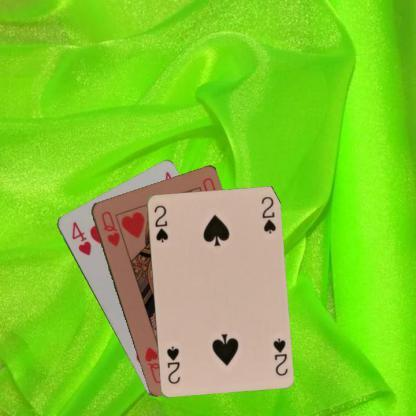2s: (270, 335, 289, 377), (152, 203, 170, 244)
4h: (68, 218, 92, 258)
Qh: (98, 208, 122, 249)
